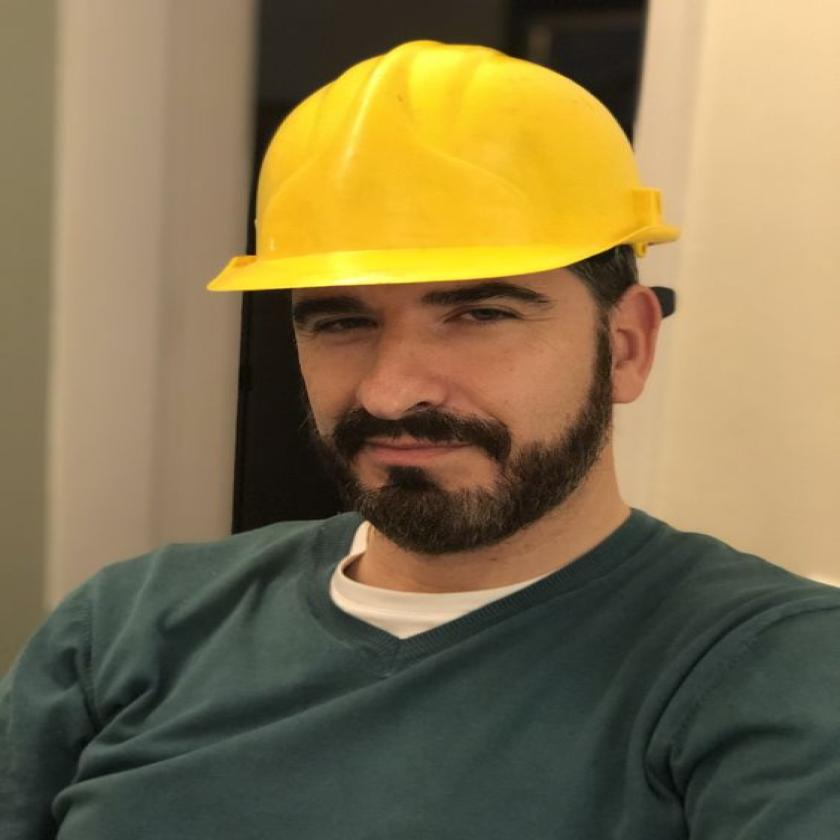Con_casco: (197, 38, 748, 545)
